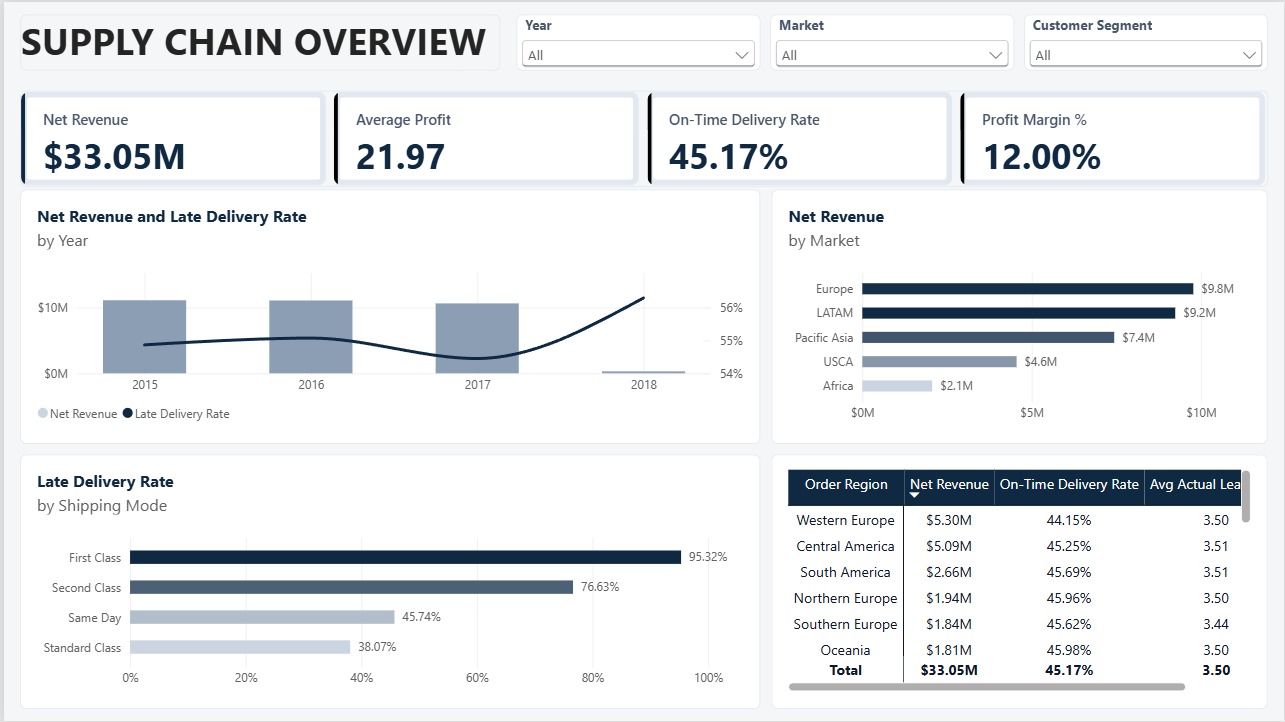

This screenshot's page, from the dashboard's own definition file:
{"tool":"powerbi","page":{"name":"Overview","canvas":[1280,720],"ordinal":0},"visuals":[{"type":"textbox","box":[16,12,480,56],"z":0},{"type":"slicer","fields":{"Values":["Cleaned_SupplyChain_Data.order date (DateOrders).Variation.Date Hierarchy.Year"]},"box":[512,12,244,56],"z":1000},{"type":"slicer","fields":{"Values":["Cleaned_SupplyChain_Data.Market"]},"box":[766,12,244,56],"z":2000},{"type":"slicer","fields":{"Values":["Cleaned_SupplyChain_Data.Customer Segment"]},"box":[1020,12,244,56],"z":3000},{"type":"cardVisual","fields":{"Data":["Cleaned_SupplyChain_Data.Net Revenue","Cleaned_SupplyChain_Data.Average Profit","Cleaned_SupplyChain_Data.On-Time Delivery Rate","Cleaned_SupplyChain_Data.Profit Margin %"]},"box":[16,89,1248,96],"z":4000},{"type":"lineClusteredColumnComboChart","fields":{"Category":["Cleaned_SupplyChain_Data.order_date.Variation.Date Hierarchy.Year"],"Y":["Cleaned_SupplyChain_Data.Net Revenue"],"Y2":["Cleaned_SupplyChain_Data.Late Delivery Rate"]},"box":[16,188,740,254],"z":5000},{"type":"clusteredBarChart","fields":{"Category":["Cleaned_SupplyChain_Data.Market"],"Y":["Cleaned_SupplyChain_Data.Net Revenue"]},"box":[768,188,496,254],"z":6000},{"type":"clusteredBarChart","fields":{"Category":["Cleaned_SupplyChain_Data.Shipping Mode"],"Y":["Cleaned_SupplyChain_Data.Late Delivery Rate"]},"box":[16,452,740,254],"z":7000},{"type":"pivotTable","fields":{"Rows":["Cleaned_SupplyChain_Data.Order Region"],"Values":["Cleaned_SupplyChain_Data.Net Revenue","Cleaned_SupplyChain_Data.On-Time Delivery Rate","Cleaned_SupplyChain_Data.Avg Actual Lead Time"]},"box":[768,452,496,254],"z":8000}]}

Visuals, with their boxes in screenshot pixels (x1, y1, x2, y2), scaled from the page's 1280x720 canvas onto the 1285x722 screenshot:
textbox: {"x1": 16, "y1": 12, "x2": 498, "y2": 68}
slicer - Cleaned_SupplyChain_Data.order date (DateOrders).Variation.Date Hierarchy.Year: {"x1": 514, "y1": 12, "x2": 759, "y2": 68}
slicer - Cleaned_SupplyChain_Data.Market: {"x1": 769, "y1": 12, "x2": 1014, "y2": 68}
slicer - Cleaned_SupplyChain_Data.Customer Segment: {"x1": 1024, "y1": 12, "x2": 1269, "y2": 68}
cardVisual - Cleaned_SupplyChain_Data.Net Revenue x Cleaned_SupplyChain_Data.Average Profit: {"x1": 16, "y1": 89, "x2": 1269, "y2": 186}
lineClusteredColumnComboChart - Cleaned_SupplyChain_Data.order_date.Variation.Date Hierarchy.Year x Cleaned_SupplyChain_Data.Net Revenue: {"x1": 16, "y1": 189, "x2": 759, "y2": 443}
clusteredBarChart - Cleaned_SupplyChain_Data.Market x Cleaned_SupplyChain_Data.Net Revenue: {"x1": 771, "y1": 189, "x2": 1269, "y2": 443}
clusteredBarChart - Cleaned_SupplyChain_Data.Shipping Mode x Cleaned_SupplyChain_Data.Late Delivery Rate: {"x1": 16, "y1": 453, "x2": 759, "y2": 708}
pivotTable - Cleaned_SupplyChain_Data.Order Region x Cleaned_SupplyChain_Data.Net Revenue: {"x1": 771, "y1": 453, "x2": 1269, "y2": 708}
